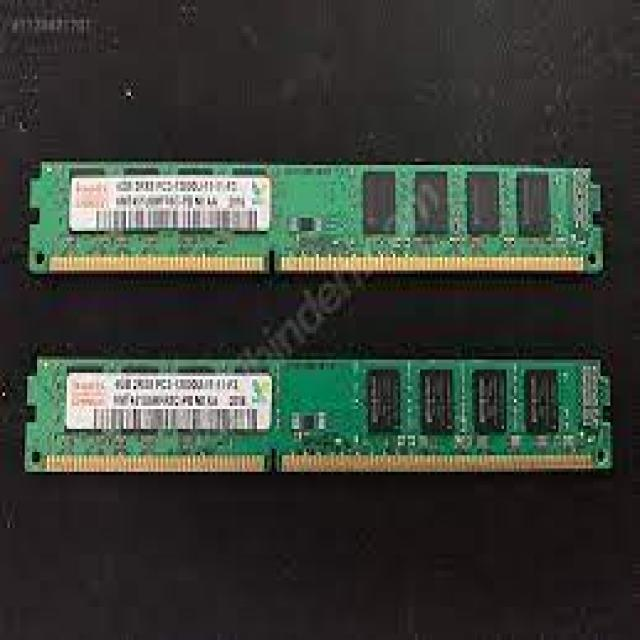Ram: (52, 95, 640, 573)
